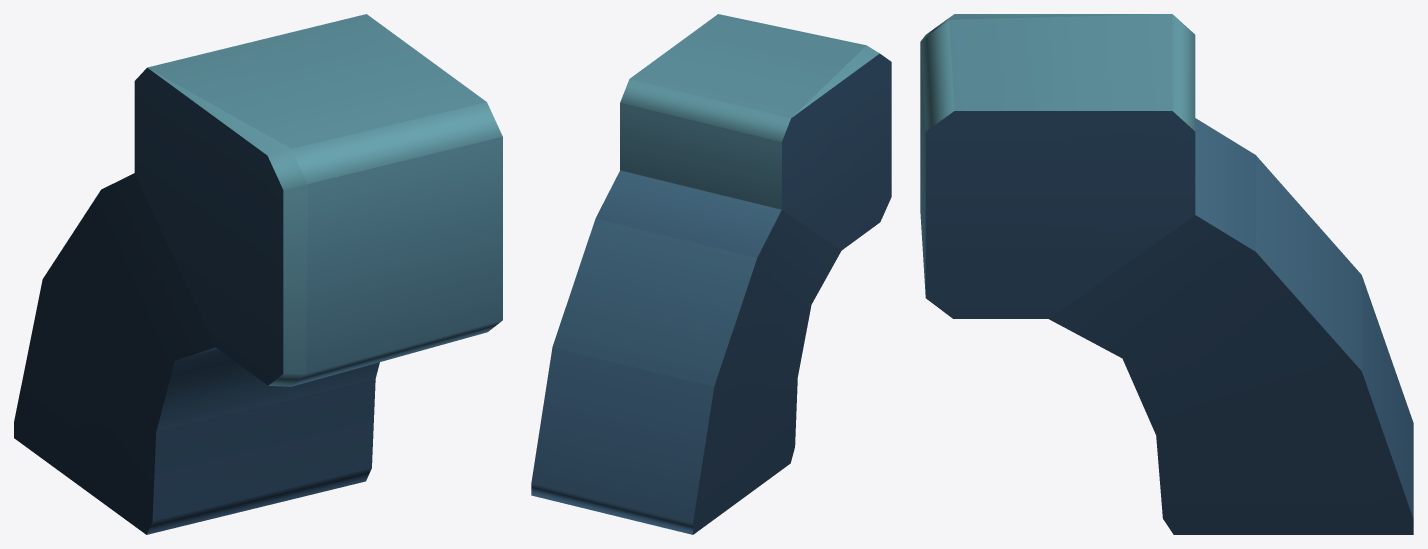
Rendered from wall_element_tileable_1meters_top.fbx.
3 views of the same model, side by side, from view 1: azimuth 30°, elevation 25°; view 2: azimuth 150°, elevation 25°; view 3: azimuth 270°, elevation 25° (orthographic). The views are drawn at different scales.
Visible parts, largest first — view 1: wall_element_tileable_1meters_top; view 2: wall_element_tileable_1meters_top; view 3: wall_element_tileable_1meters_top.
Part boxes in pixels (bbox=[...]): wall_element_tileable_1meters_top: bbox=[14, 14, 502, 534]; wall_element_tileable_1meters_top: bbox=[531, 14, 891, 534]; wall_element_tileable_1meters_top: bbox=[920, 14, 1413, 534].
Size of the model in its own units: 100 by 205 by 215.
